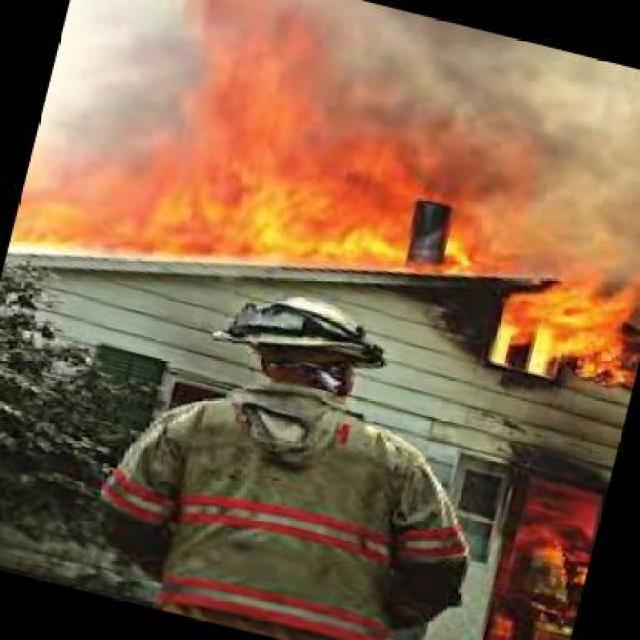Fire: (30, 130, 502, 290), (508, 51, 640, 276), (192, 0, 324, 139), (502, 274, 640, 400)
